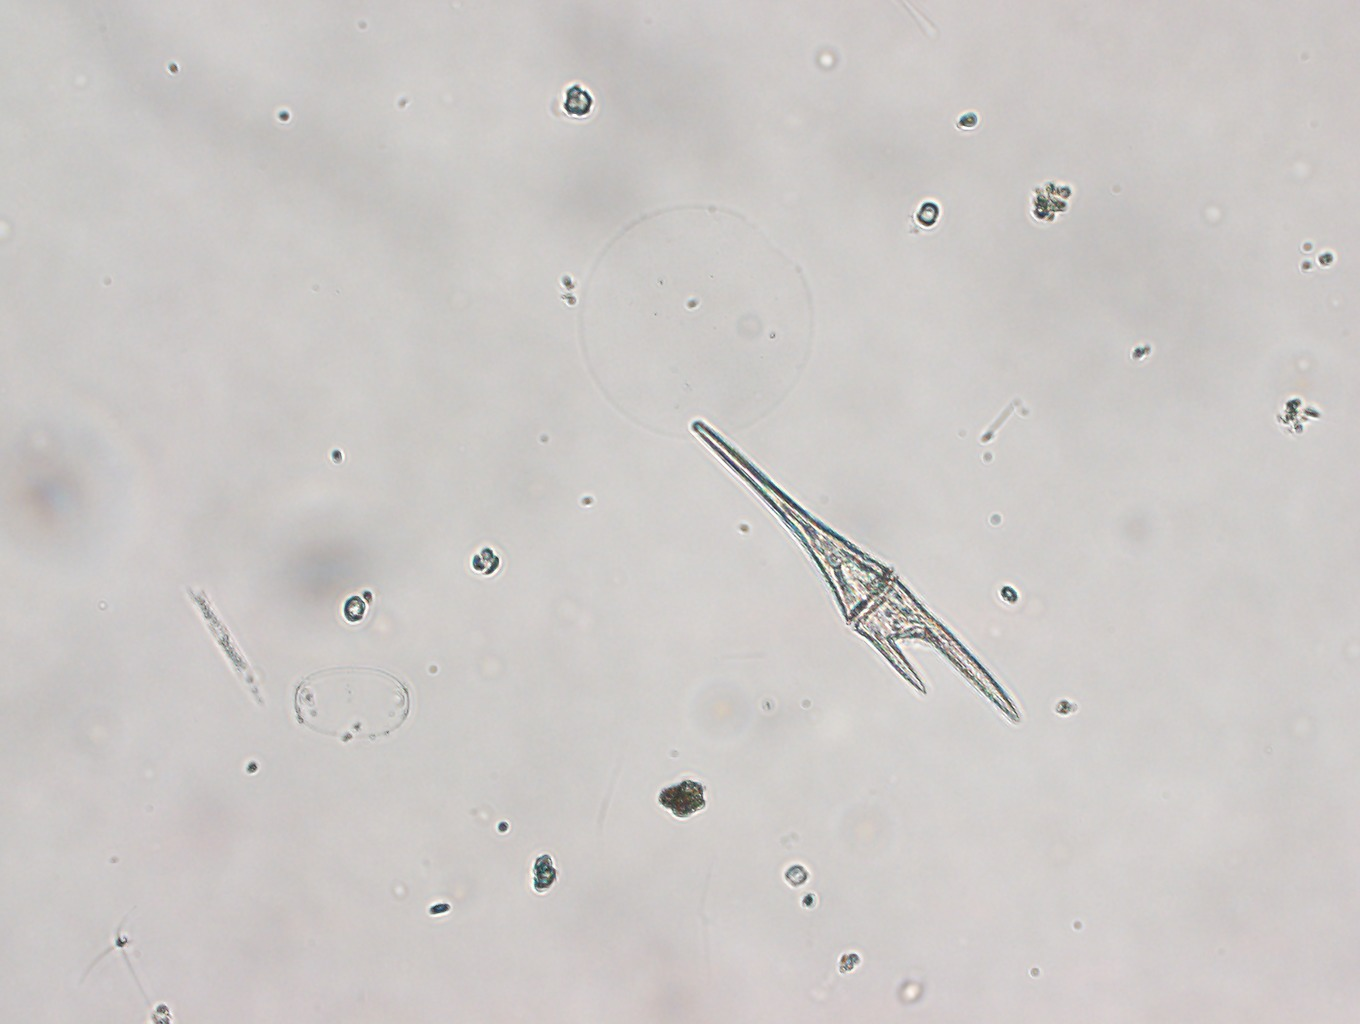ceratium furca: (682, 414, 1022, 733)
